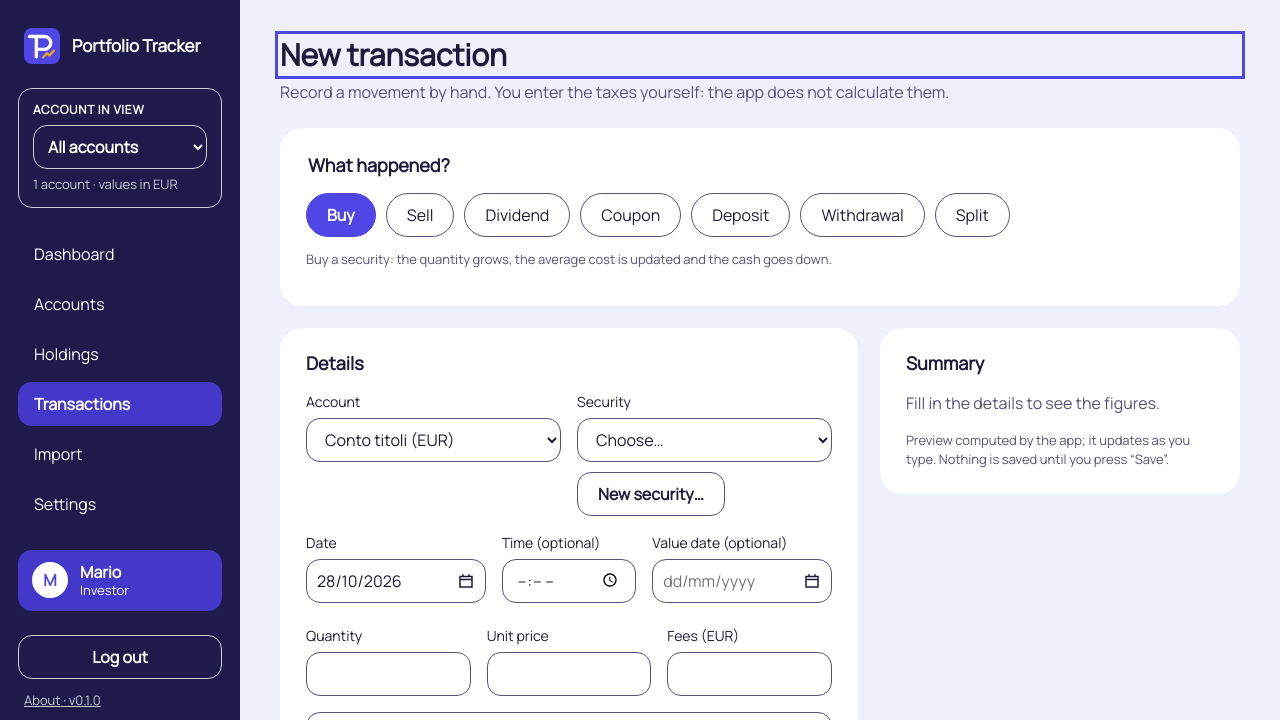
Scenario: new transaction form › shows a conflict live, and a refused Save opens the conflict dialog (06)
Expected: the heading "New transaction" is shown, [280, 34, 507, 75]
Click the radio button labelled "Sell". click: (420, 214)
box: [386, 192, 454, 236]
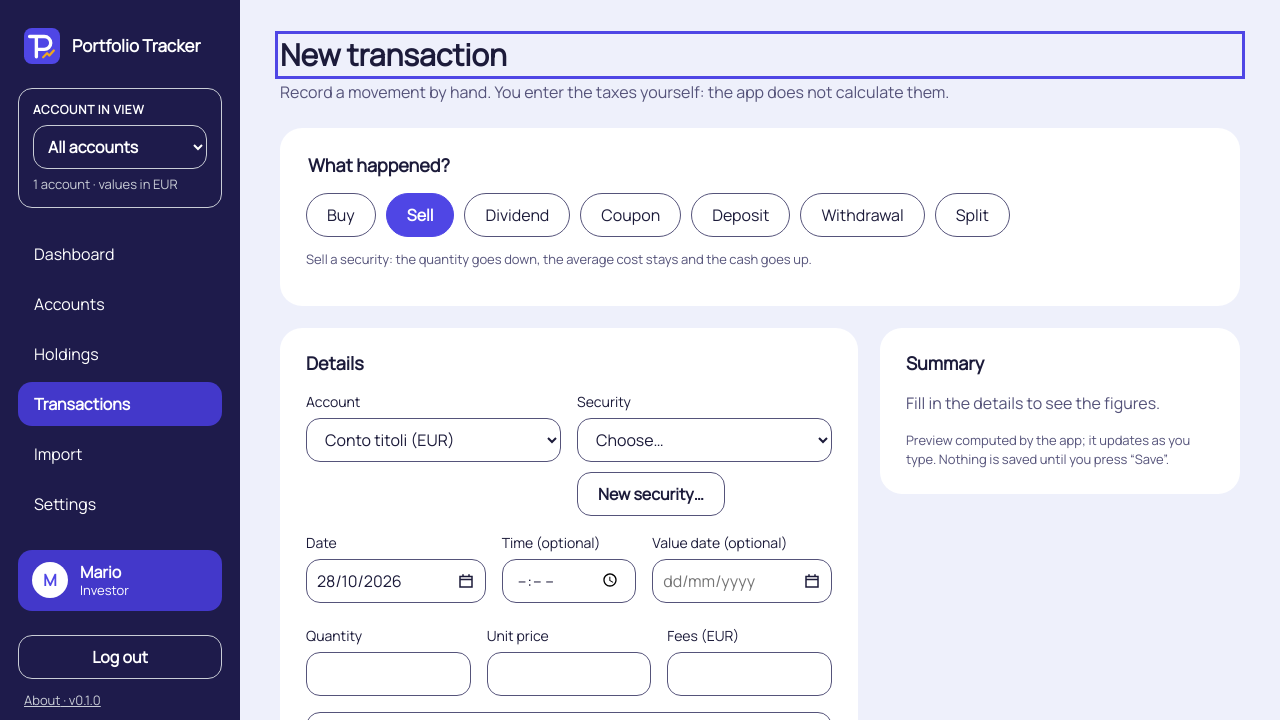
Select "Mondo Azionario ETF · EUR" in the dropdown labelled "Security". click: (704, 440)
box: [577, 418, 832, 462]
Replace the text in the field labelled "Date" with "12/10/2026". click: (396, 580)
box: [306, 558, 486, 602]
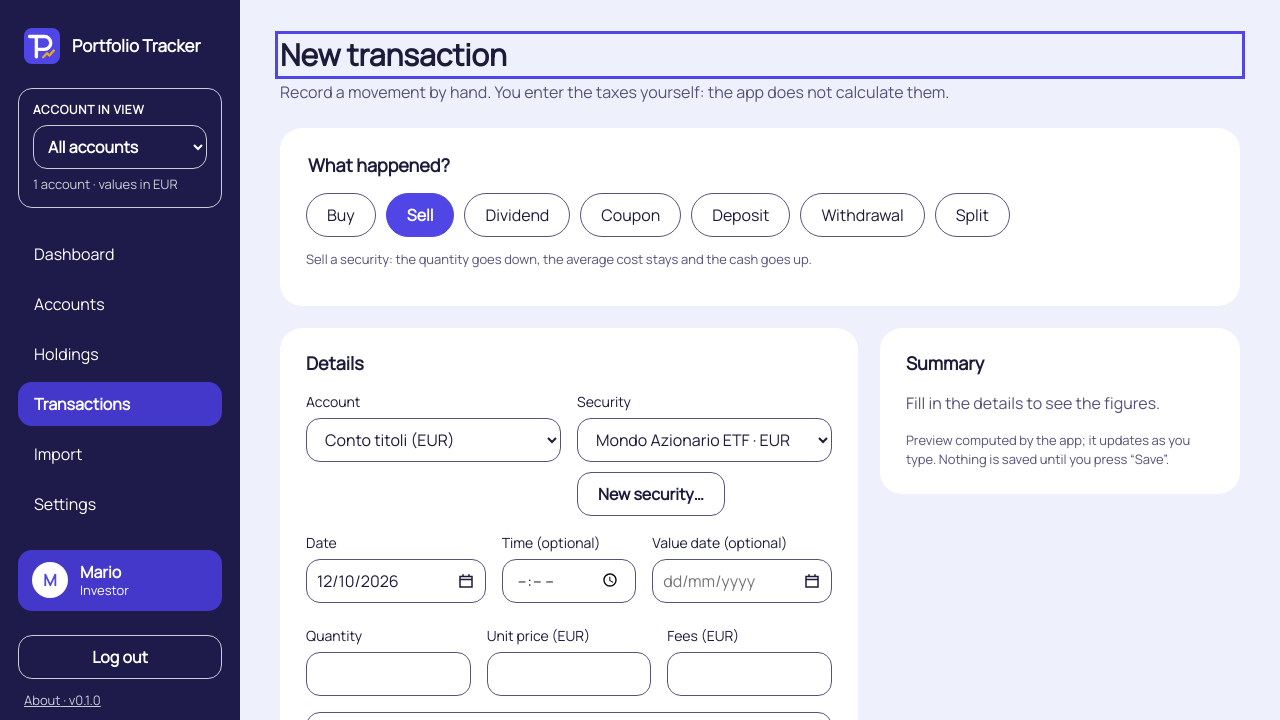
Type "60" into the field labelled "Quantity". click: (388, 674)
box: [306, 652, 471, 696]
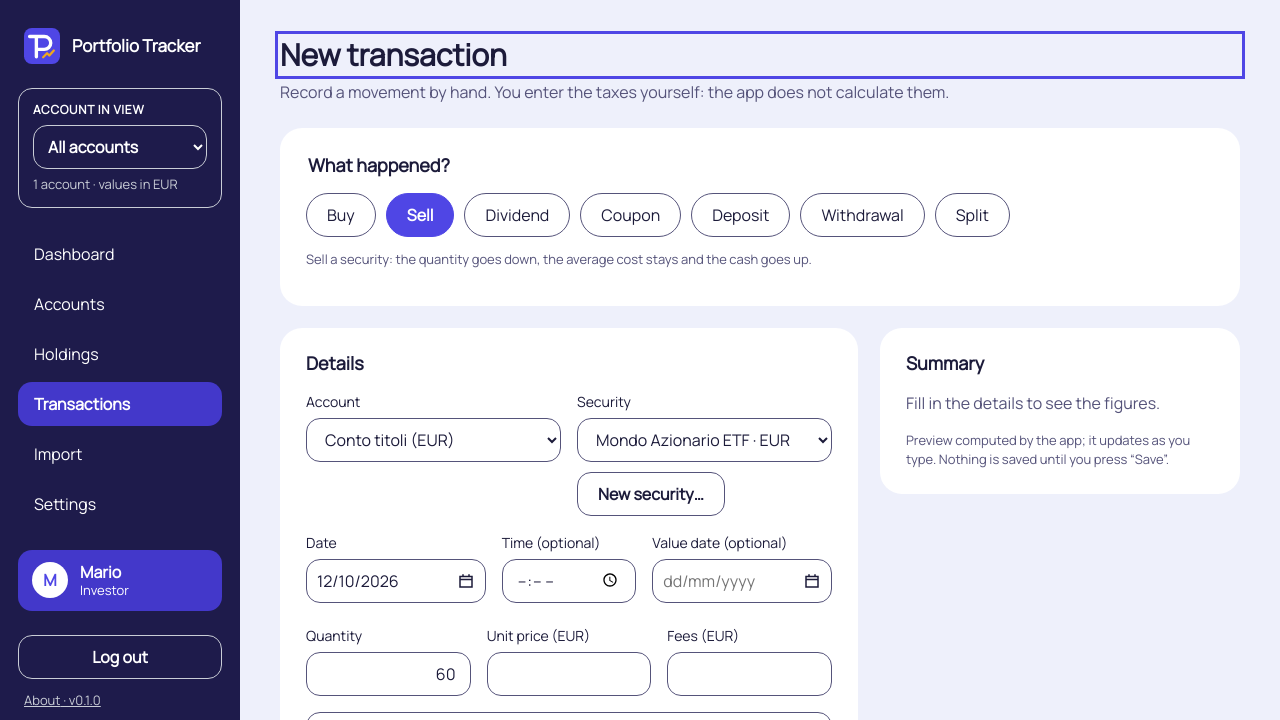
Type "110" into the field labelled "Unit price (EUR)". click: (569, 674)
box: [487, 652, 651, 696]
(page scrolled)
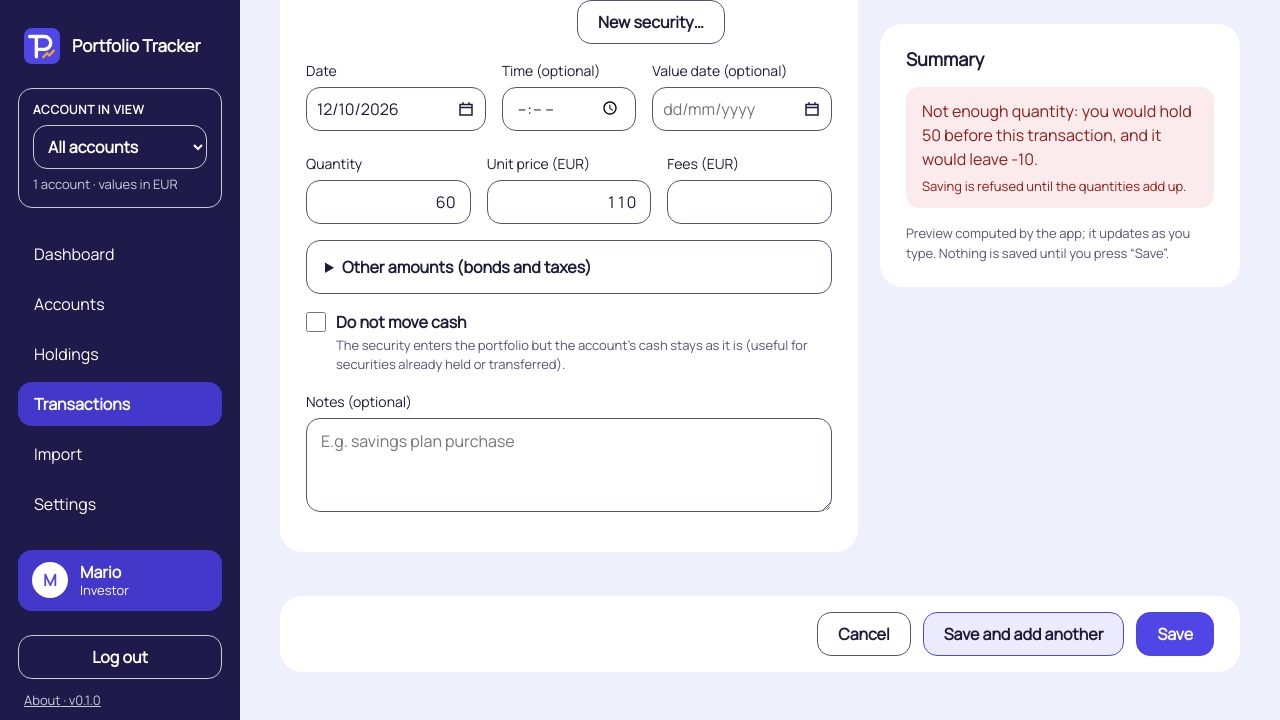
Expected: the text "Not enough quantity: you would hold 50 before this transaction, and it would leave -10." is shown, [922, 100, 1192, 170]
Click the button "Save". click: (1175, 634)
box: [1136, 612, 1214, 656]
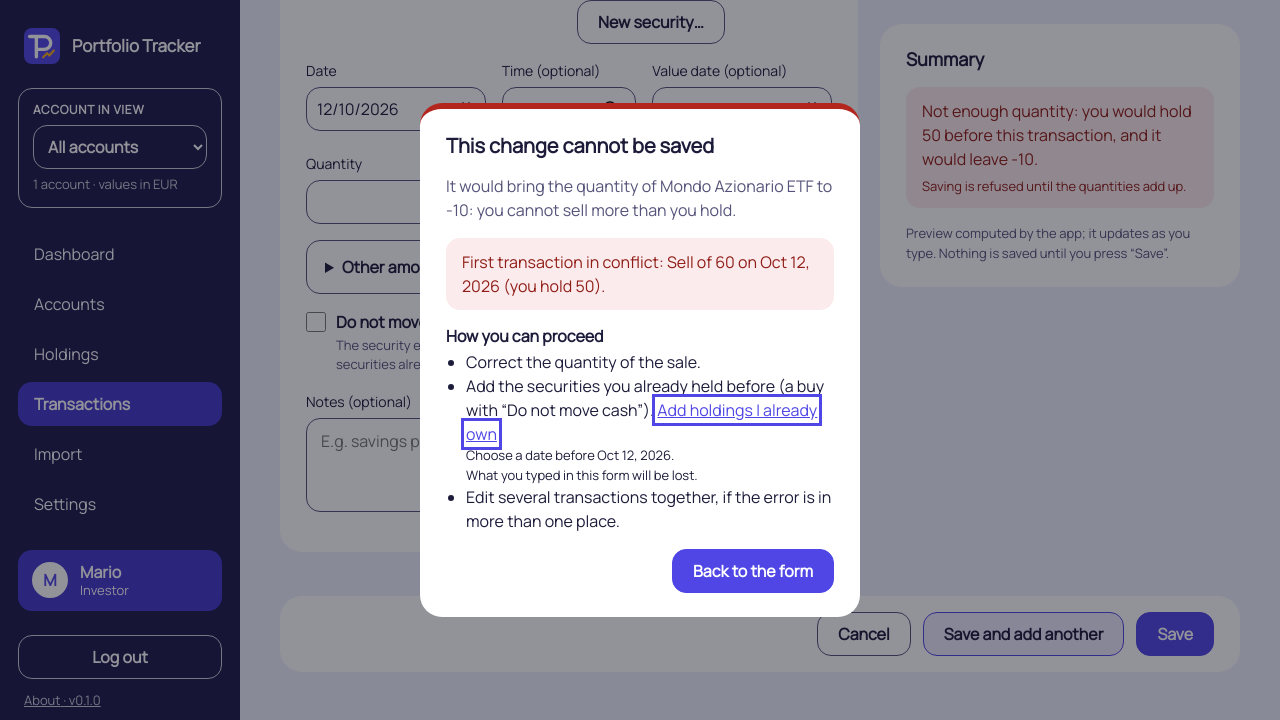
Expected: the dialog "This change cannot be saved" shows "First transaction in conflict: Sell of 60 on Oct 12, 2026 (you hold 50).", [462, 251, 810, 297]
Expected: the dialog "This change cannot be saved" shows "Choose a date before Oct 12, 2026.", [466, 446, 674, 464]
Expected: the dialog "This change cannot be saved" shows "What you typed in this form will be lost.", [466, 466, 698, 484]
Click the button "Back to the form". click: (753, 571)
box: [672, 549, 834, 593]
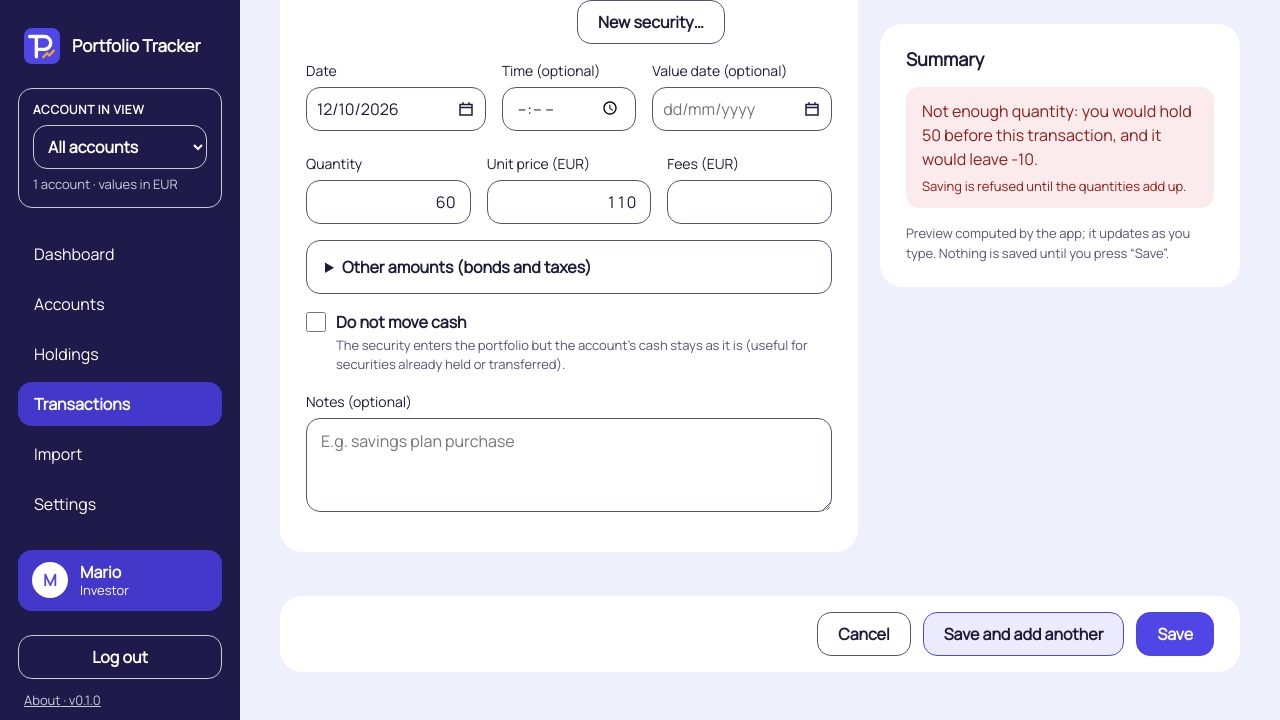
Expected: the dialog is gone
